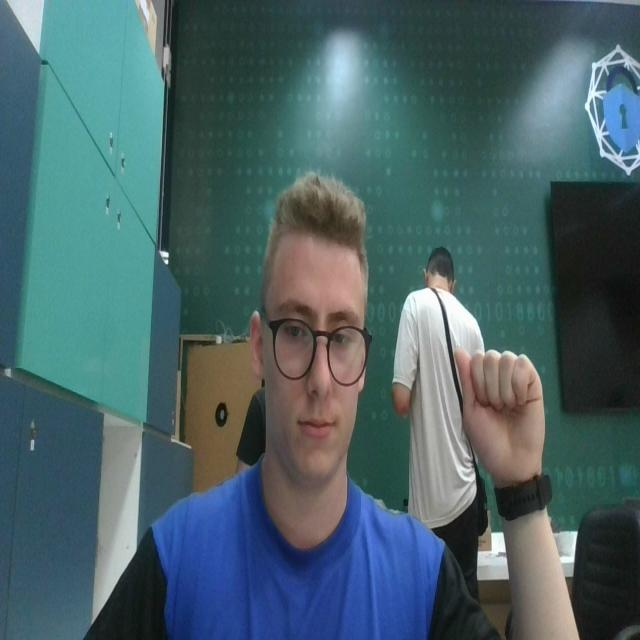A: (450, 340, 550, 474)
